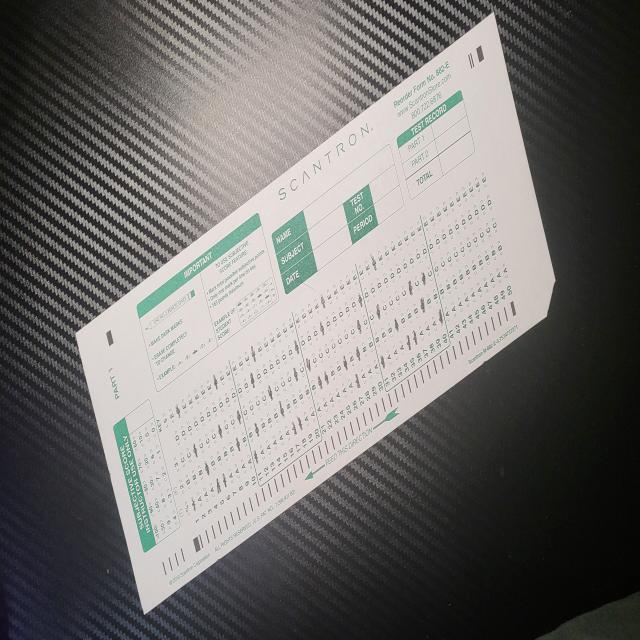scantron: (74, 11, 556, 615)
